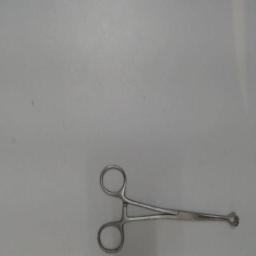Babcock Tissue Forceps: (94, 161, 244, 255)
